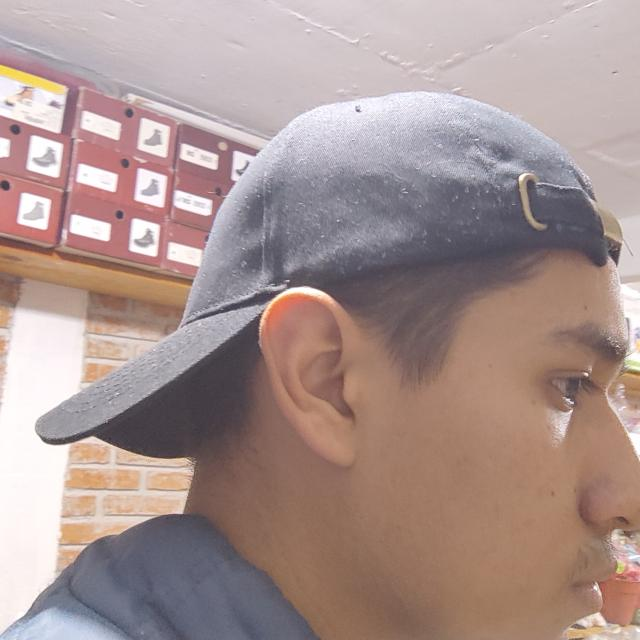ear: (259, 286, 364, 465)
